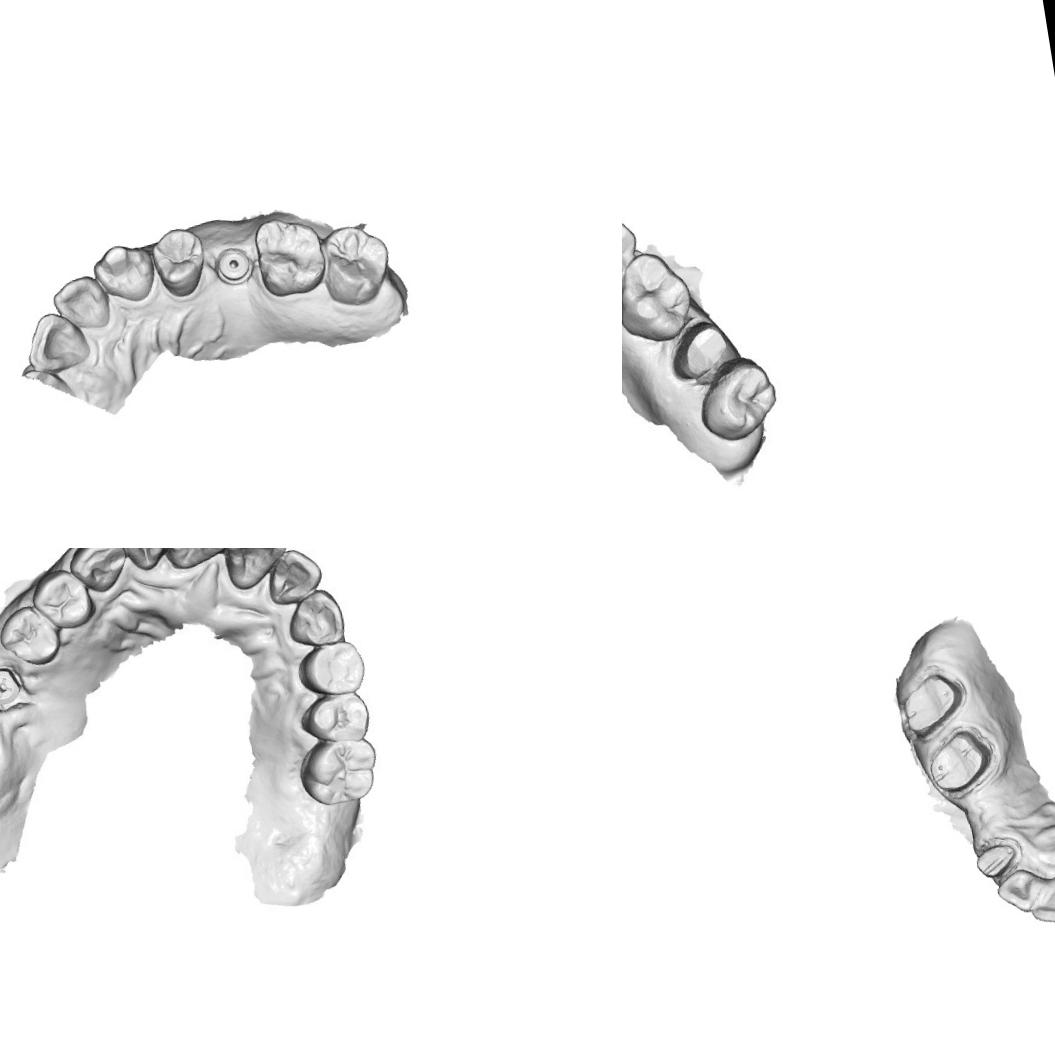canine: (88, 236, 160, 308), (280, 584, 349, 652), (63, 548, 132, 598)
crown: (894, 668, 970, 741), (922, 726, 996, 798), (664, 316, 736, 386), (972, 838, 1022, 882)
implant: (210, 241, 258, 290)
implant_plus: (0, 663, 28, 712)
incisor: (22, 305, 98, 380), (50, 270, 114, 337), (260, 548, 327, 609), (218, 548, 297, 594), (992, 863, 1042, 917), (158, 548, 235, 573), (1024, 869, 1055, 931), (114, 548, 176, 576)
molar: (692, 350, 783, 446), (622, 243, 701, 349), (248, 207, 330, 302), (293, 732, 385, 812), (318, 218, 396, 310)
premolar: (145, 218, 212, 301), (25, 564, 98, 636), (294, 689, 376, 750), (293, 638, 370, 702), (0, 600, 64, 672), (622, 214, 644, 298)
